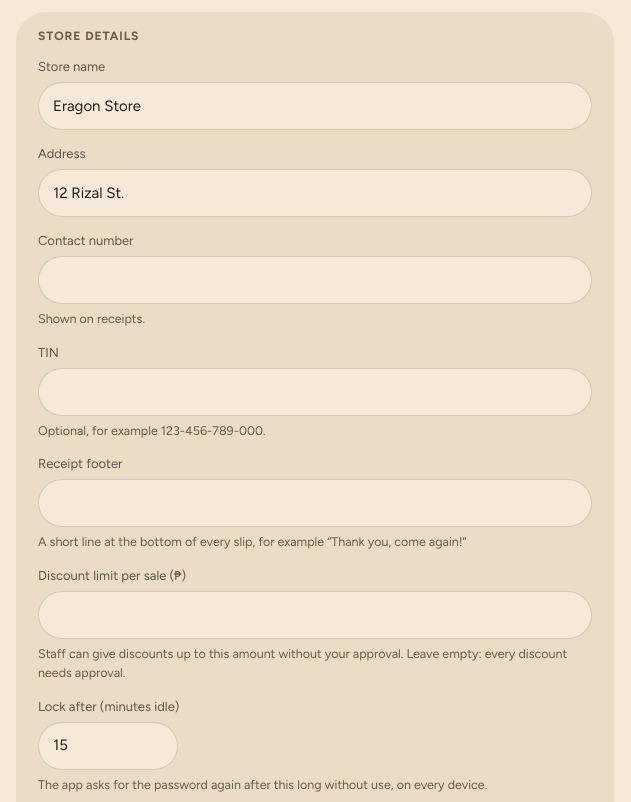
Test case: Settings > Store (SYS-01) › saves the store details, with empty optional fields cleared
Type "0917 123 4567" into the field labelled "Contact number".
click(315, 280); type("0917 123 4567")  # box [38,256,592,304]
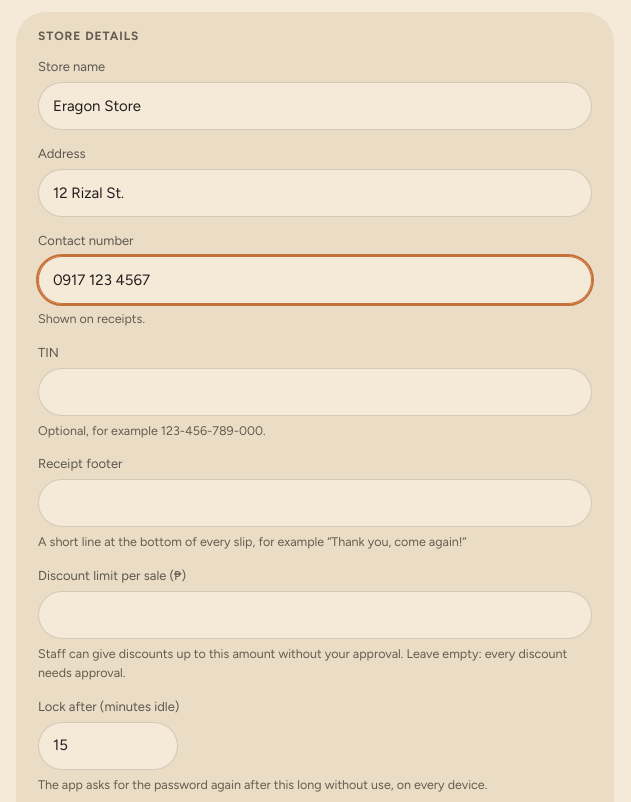
Type "50" into the field labelled "Discount limit per sale (₱)".
click(315, 615); type("50")  # box [38,591,592,639]
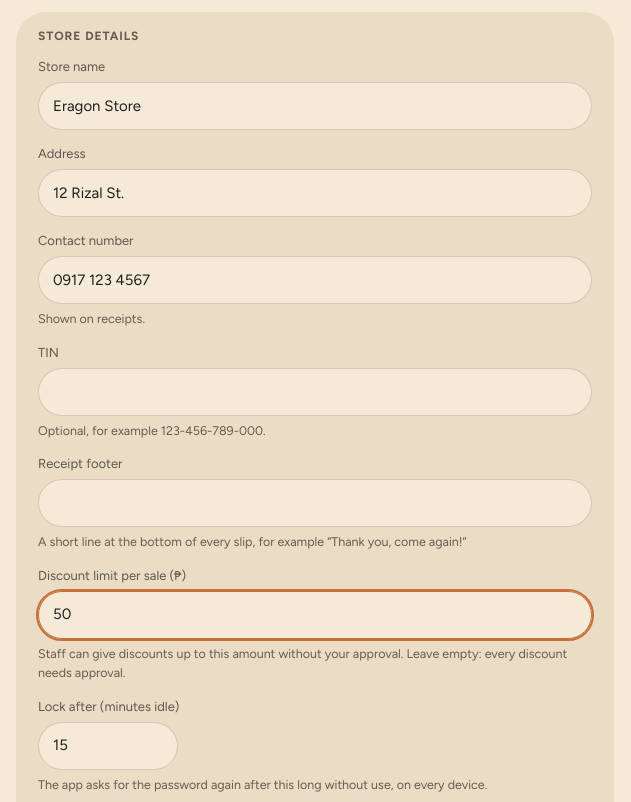
Replace the text in the field labelled "Lock after (minutes idle)" with "10" at (108, 746), box [38,722,178,770]
(page scrolled)
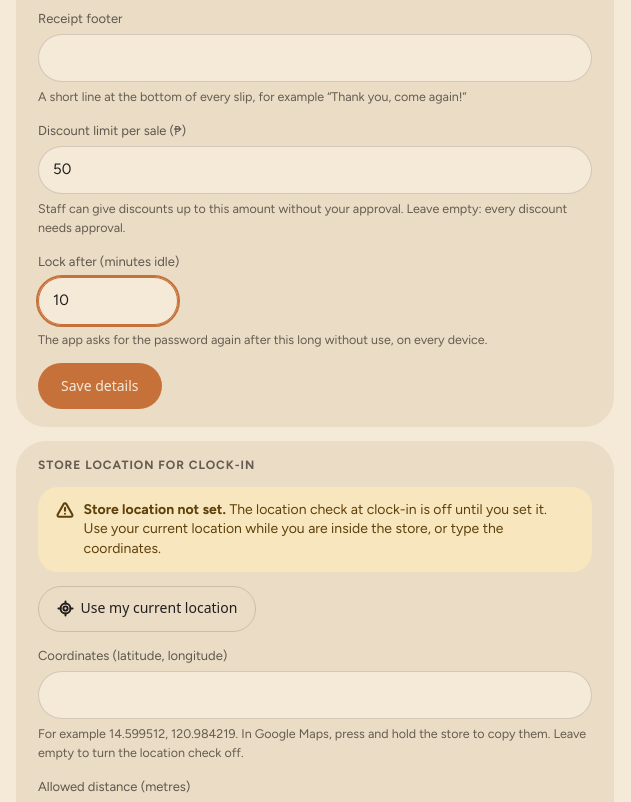
Click the button "Save details".
click(100, 386)  # box [38,363,162,409]
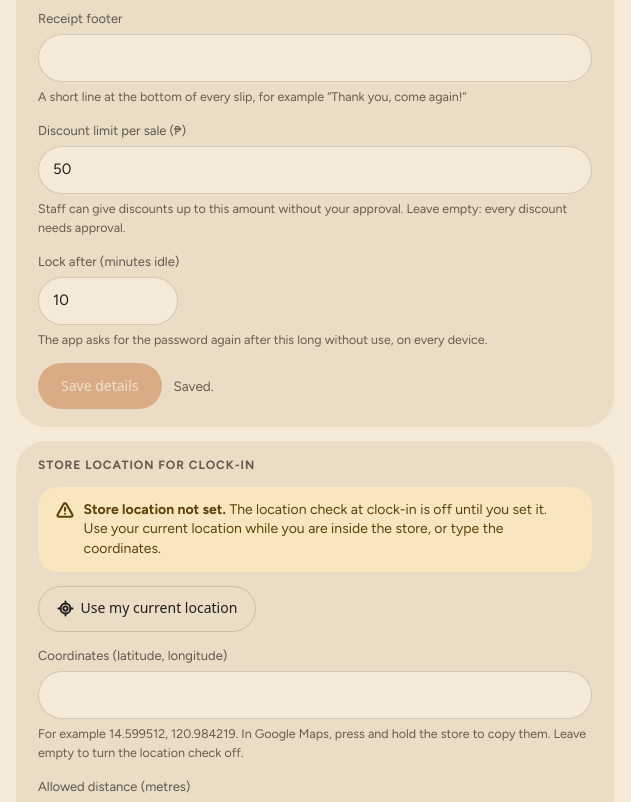
Expected: the text "Saved." is shown, [174,376,214,397]
